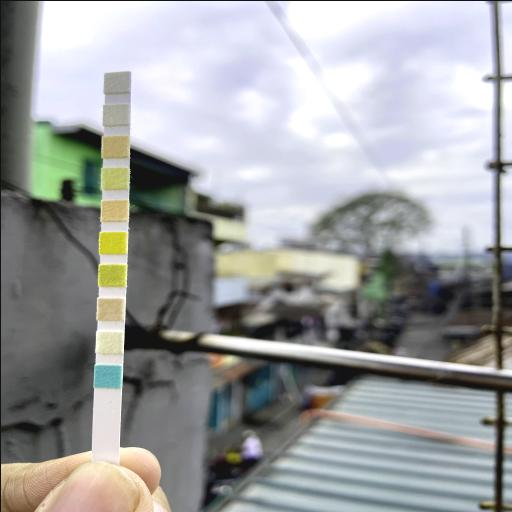Bilirubin: (96, 331, 121, 351)
Blood: (100, 232, 126, 252)
Glucose: (94, 366, 120, 386)
Ketone: (97, 297, 124, 317)
Leukocytes: (104, 74, 128, 90)
Nitrite: (103, 104, 128, 122)
Protein: (101, 168, 127, 186)
SpGravity: (100, 265, 124, 283)
Urobilinogen: (102, 136, 128, 154)
pH: (102, 200, 126, 218)
strip: (91, 70, 130, 459)
